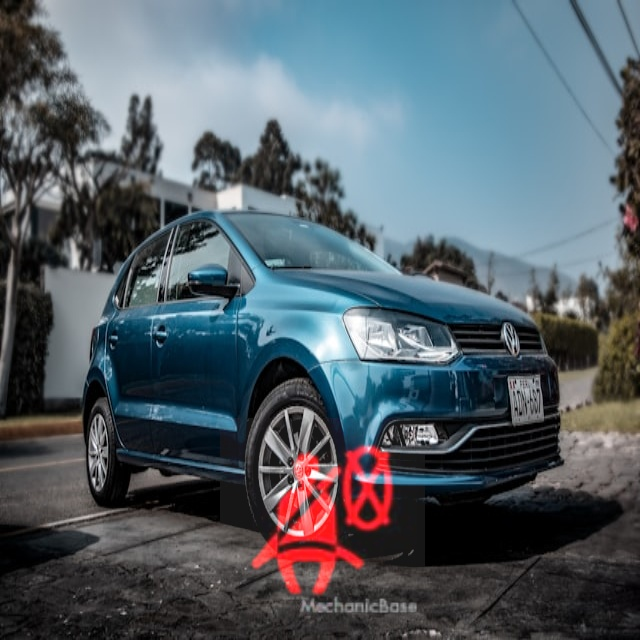symbol: (220, 418, 425, 623)
